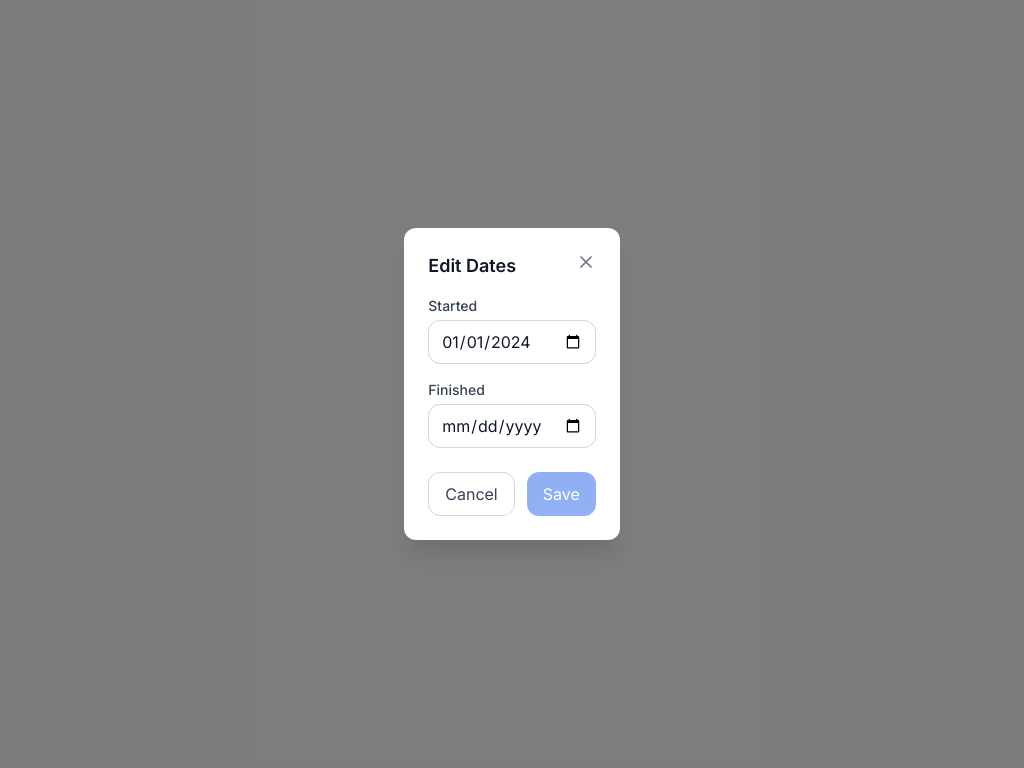
Scenario: EditDatesModal › shows error when no dates provided
The image size is (1024, 768).
# Clear the start date
Clear the date field labelled "Started" at x=512, y=342, box [428,320,596,364]
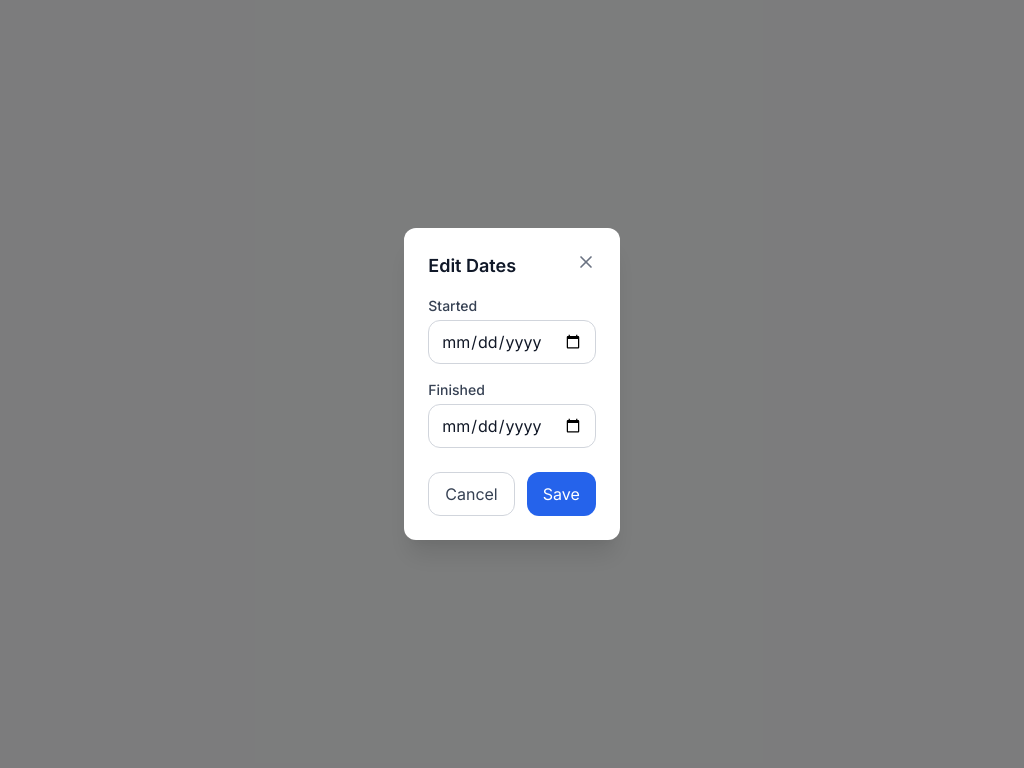
Click the button "Save" at x=561, y=494, box [527,472,596,516]
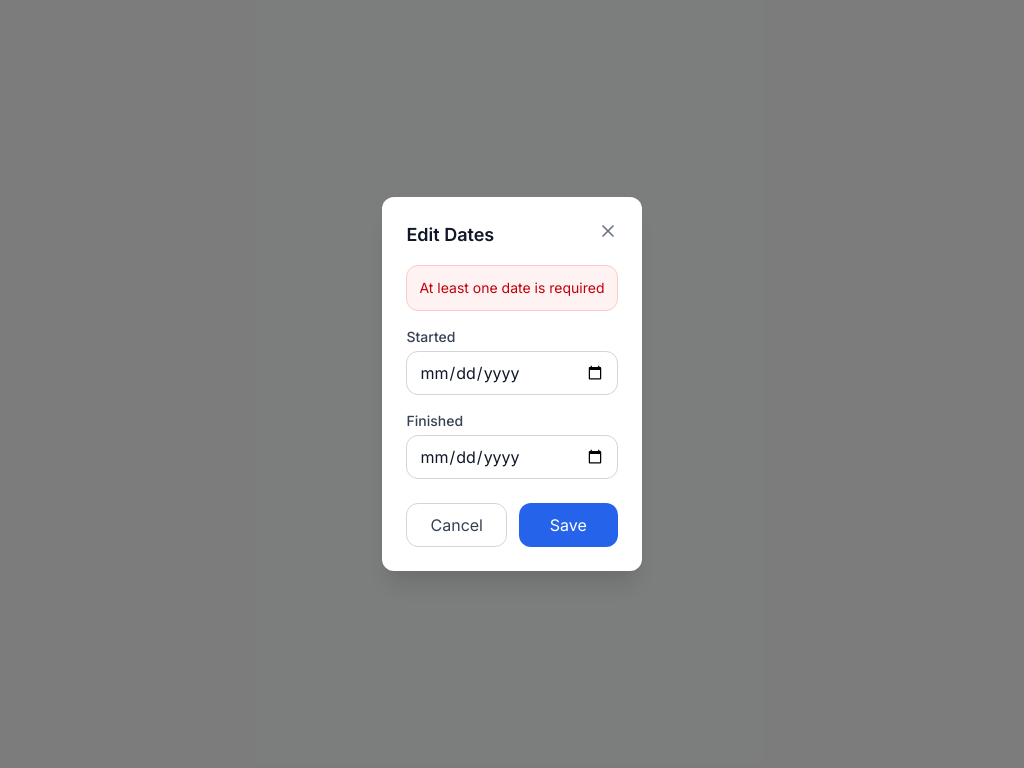
Expected: the text "At least one date is required" is shown, [406,265,618,311]
